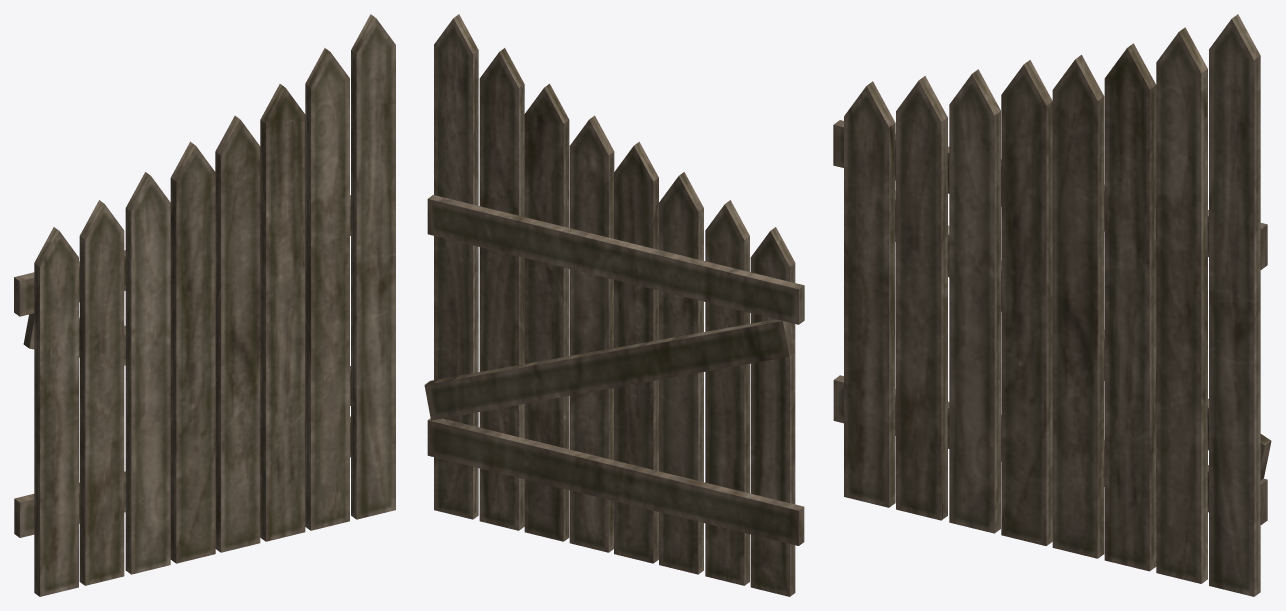
Rendered from gateR.glb.
3 renders of one model, left to right at view 1: azimuth 30°, elevation 25°; view 2: azimuth 150°, elevation 25°; view 3: azimuth 330°, elevation 25°, orthographic. The views are drawn at different scales.
Visible parts, largest first — view 1: plank30_style1_door1_0.003; view 2: plank30_style1_door1_0.003; view 3: plank30_style1_door1_0.003.
Boxes of the visible parts, x1,y1,x2,y2 form: plank30_style1_door1_0.003: (14, 14, 395, 596); plank30_style1_door1_0.003: (424, 14, 804, 596); plank30_style1_door1_0.003: (833, 14, 1271, 596).
Bounding box in the file's own units: 1.23 × 1.56 × 0.0636.
1 material, 1 textured.
